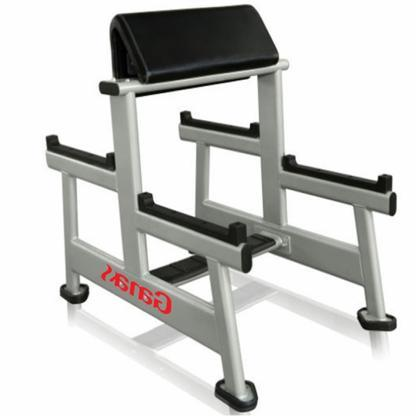arm curl machine: (46, 5, 397, 411)
